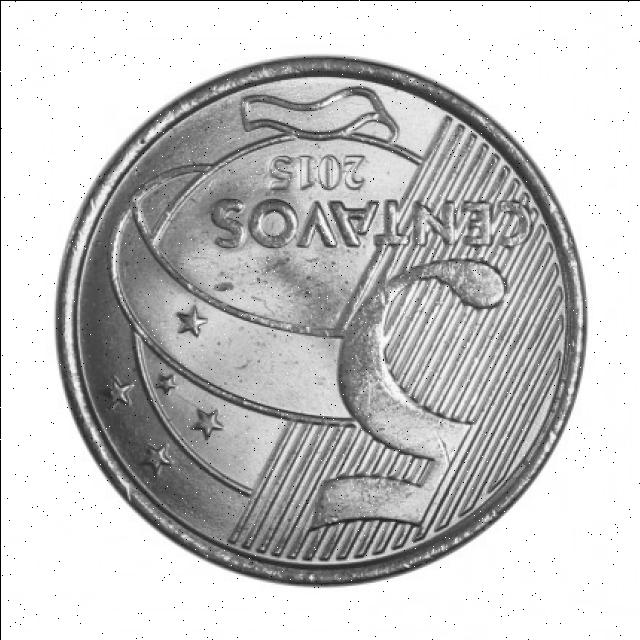5 cent: (61, 60, 584, 586)
